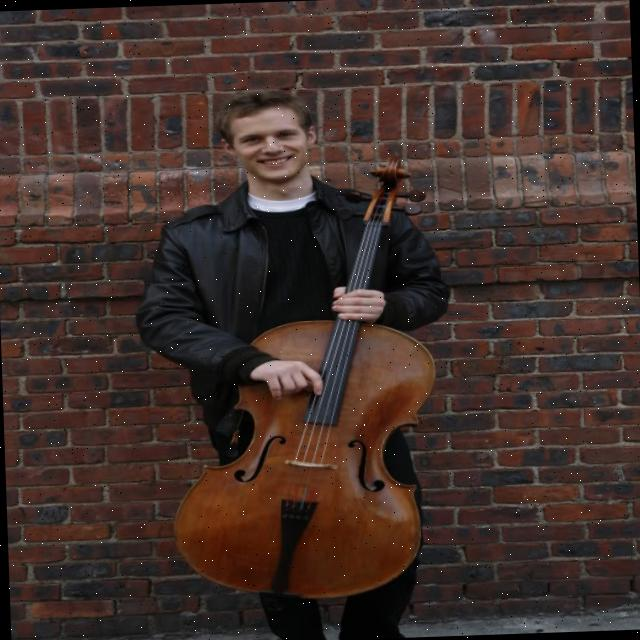cello: (157, 153, 450, 608)
